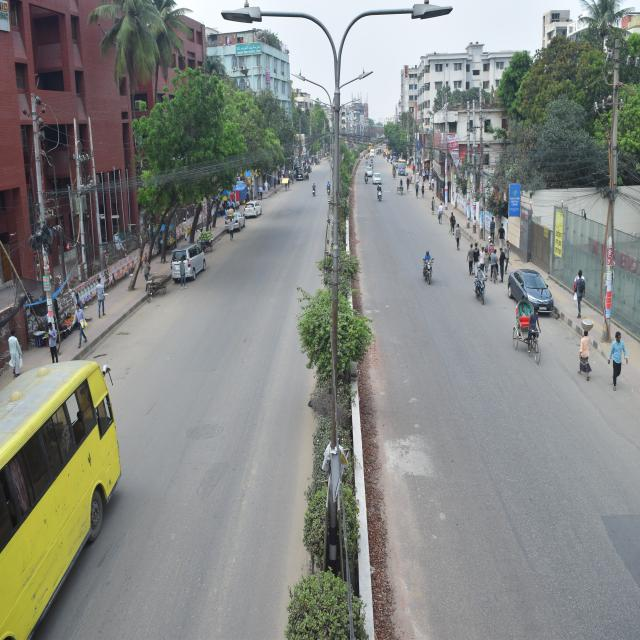bus: (0, 343, 163, 639)
car: (505, 252, 562, 324), (221, 207, 245, 237), (242, 194, 268, 219), (371, 169, 385, 184), (364, 160, 375, 176)
microbus: (166, 240, 212, 286)
motorbike: (466, 263, 490, 302), (416, 251, 437, 281), (372, 182, 383, 202), (324, 179, 334, 201), (311, 179, 316, 198), (362, 169, 368, 183)
